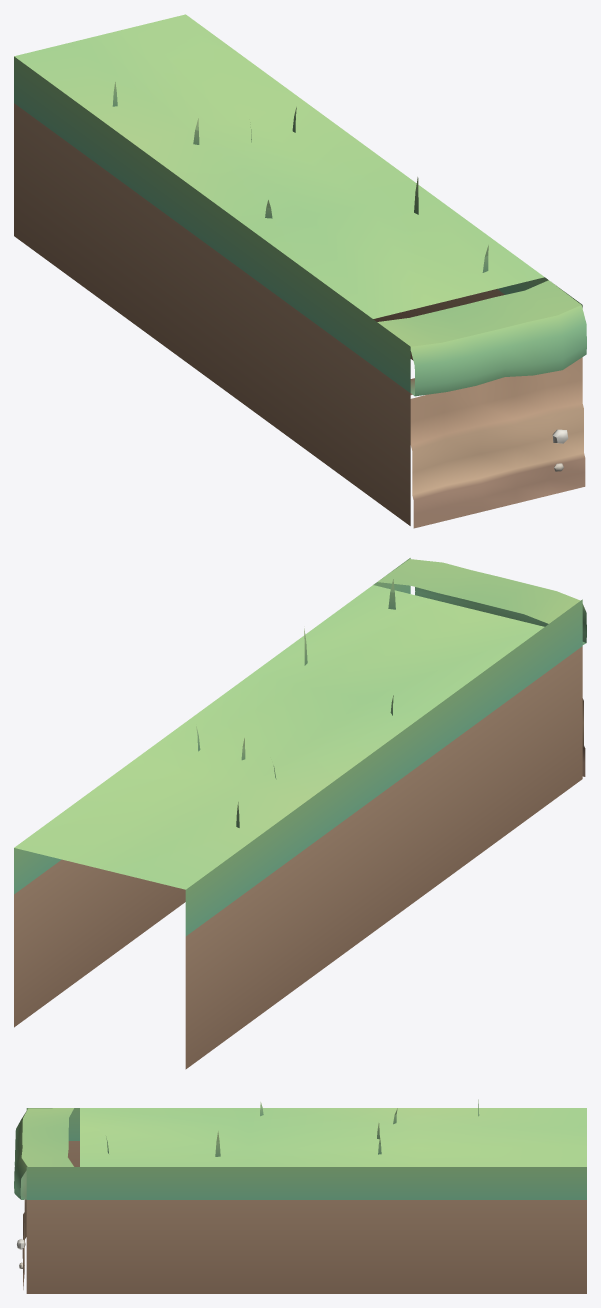
The model's file is groundlite_grass_4.glb.
The picture shows the model from 3 angles, top to bottom: view 1: azimuth 30°, elevation 25°; view 2: azimuth 150°, elevation 25°; view 3: azimuth 270°, elevation 25°; orthographic projection. The views are drawn at different scales.
Visible parts, largest first — view 1: groundlite_grass_4; view 2: groundlite_grass_4; view 3: groundlite_grass_4.
Part boxes in pixels (bbox=[...]): groundlite_grass_4: bbox=[14, 14, 586, 528]; groundlite_grass_4: bbox=[14, 558, 586, 1069]; groundlite_grass_4: bbox=[14, 1099, 586, 1293].
Bounding box in the file's own units: 1 × 1.21 × 4.09.
